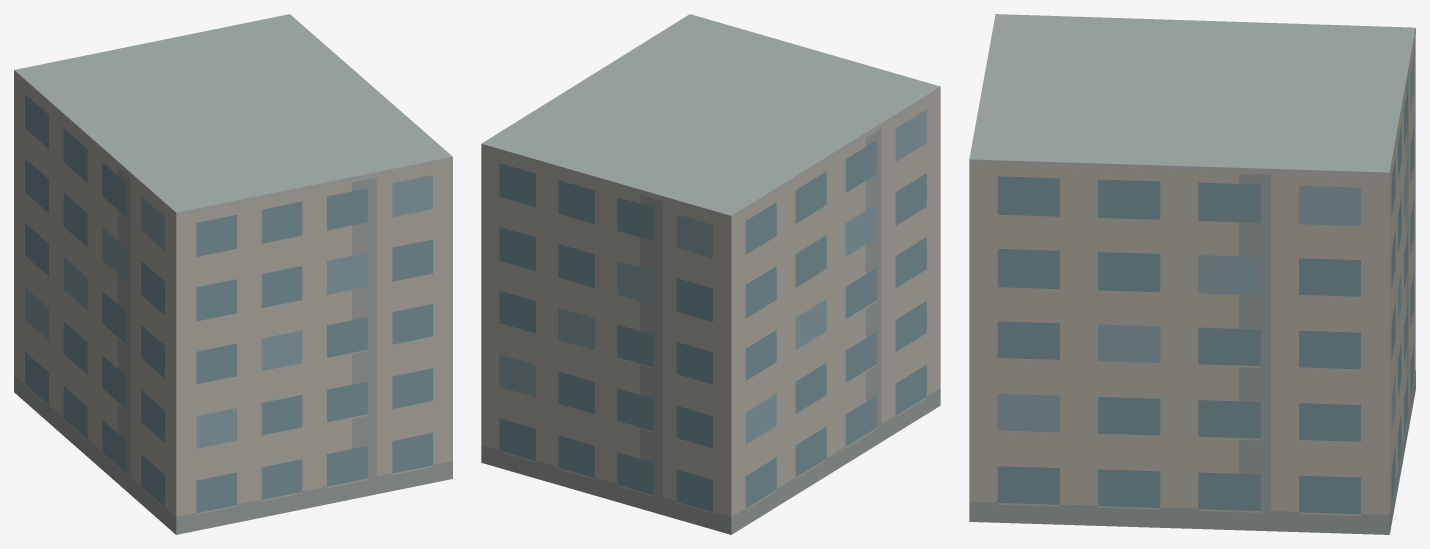
Rendered from survey-upis-32566979.glb.
3 renders of one model, left to right at view 1: azimuth 30°, elevation 25°; view 2: azimuth 150°, elevation 25°; view 3: azimuth 270°, elevation 25°, orthographic. The views are drawn at different scales.
Visible parts, largest first — view 1: survey-upis-32566979.tmp; view 2: survey-upis-32566979.tmp; view 3: survey-upis-32566979.tmp.
Part boxes in pixels (left/top/right/bottom): survey-upis-32566979.tmp: left=14, top=14, right=452, bottom=534; survey-upis-32566979.tmp: left=481, top=14, right=940, bottom=534; survey-upis-32566979.tmp: left=969, top=14, right=1415, bottom=534.
Bounding box in the file's own units: 13.94 × 14.85 × 16.59.
